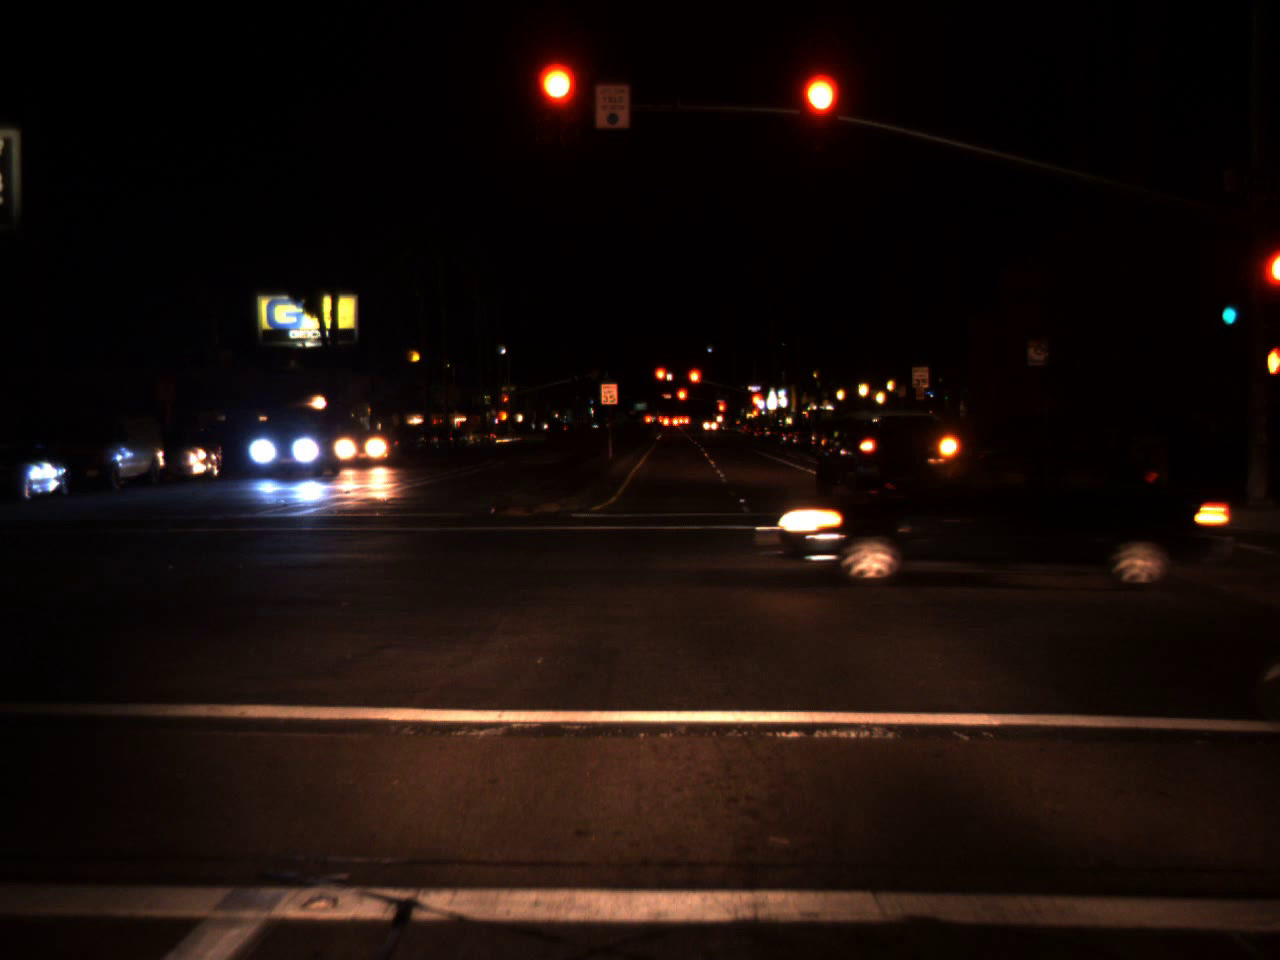stop: (539, 64, 578, 142), (802, 74, 838, 152), (686, 367, 702, 399), (653, 365, 668, 394), (675, 386, 688, 415), (749, 394, 762, 415), (717, 400, 724, 421), (503, 394, 509, 410)
